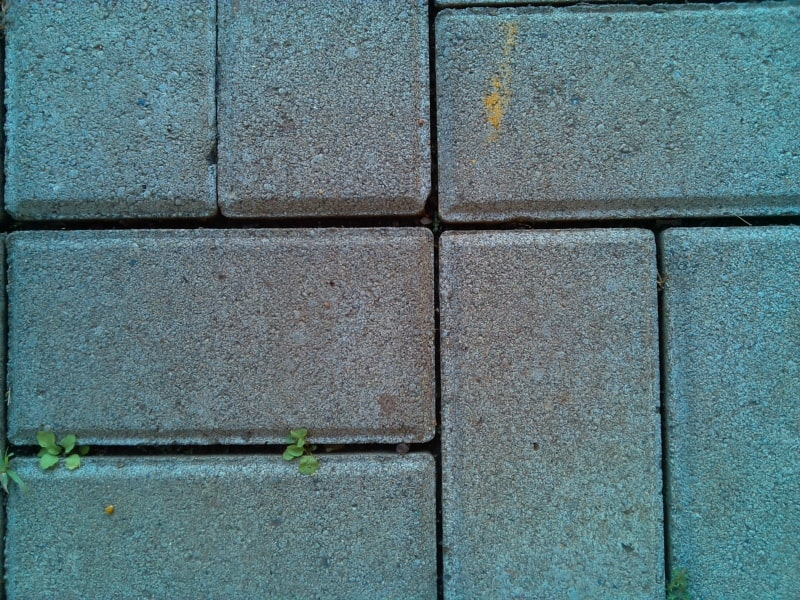Weed: (276, 425, 317, 477), (35, 432, 83, 474), (1, 441, 24, 494), (665, 573, 693, 598)
